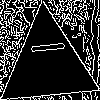I: (22, 38, 65, 57)
